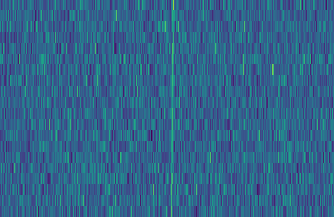signal: (166, 0, 177, 217)
